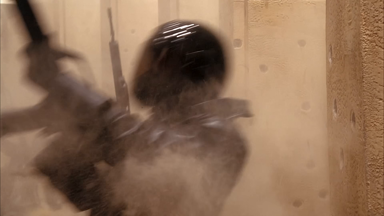firearm: (13, 1, 89, 63), (106, 6, 134, 114)
